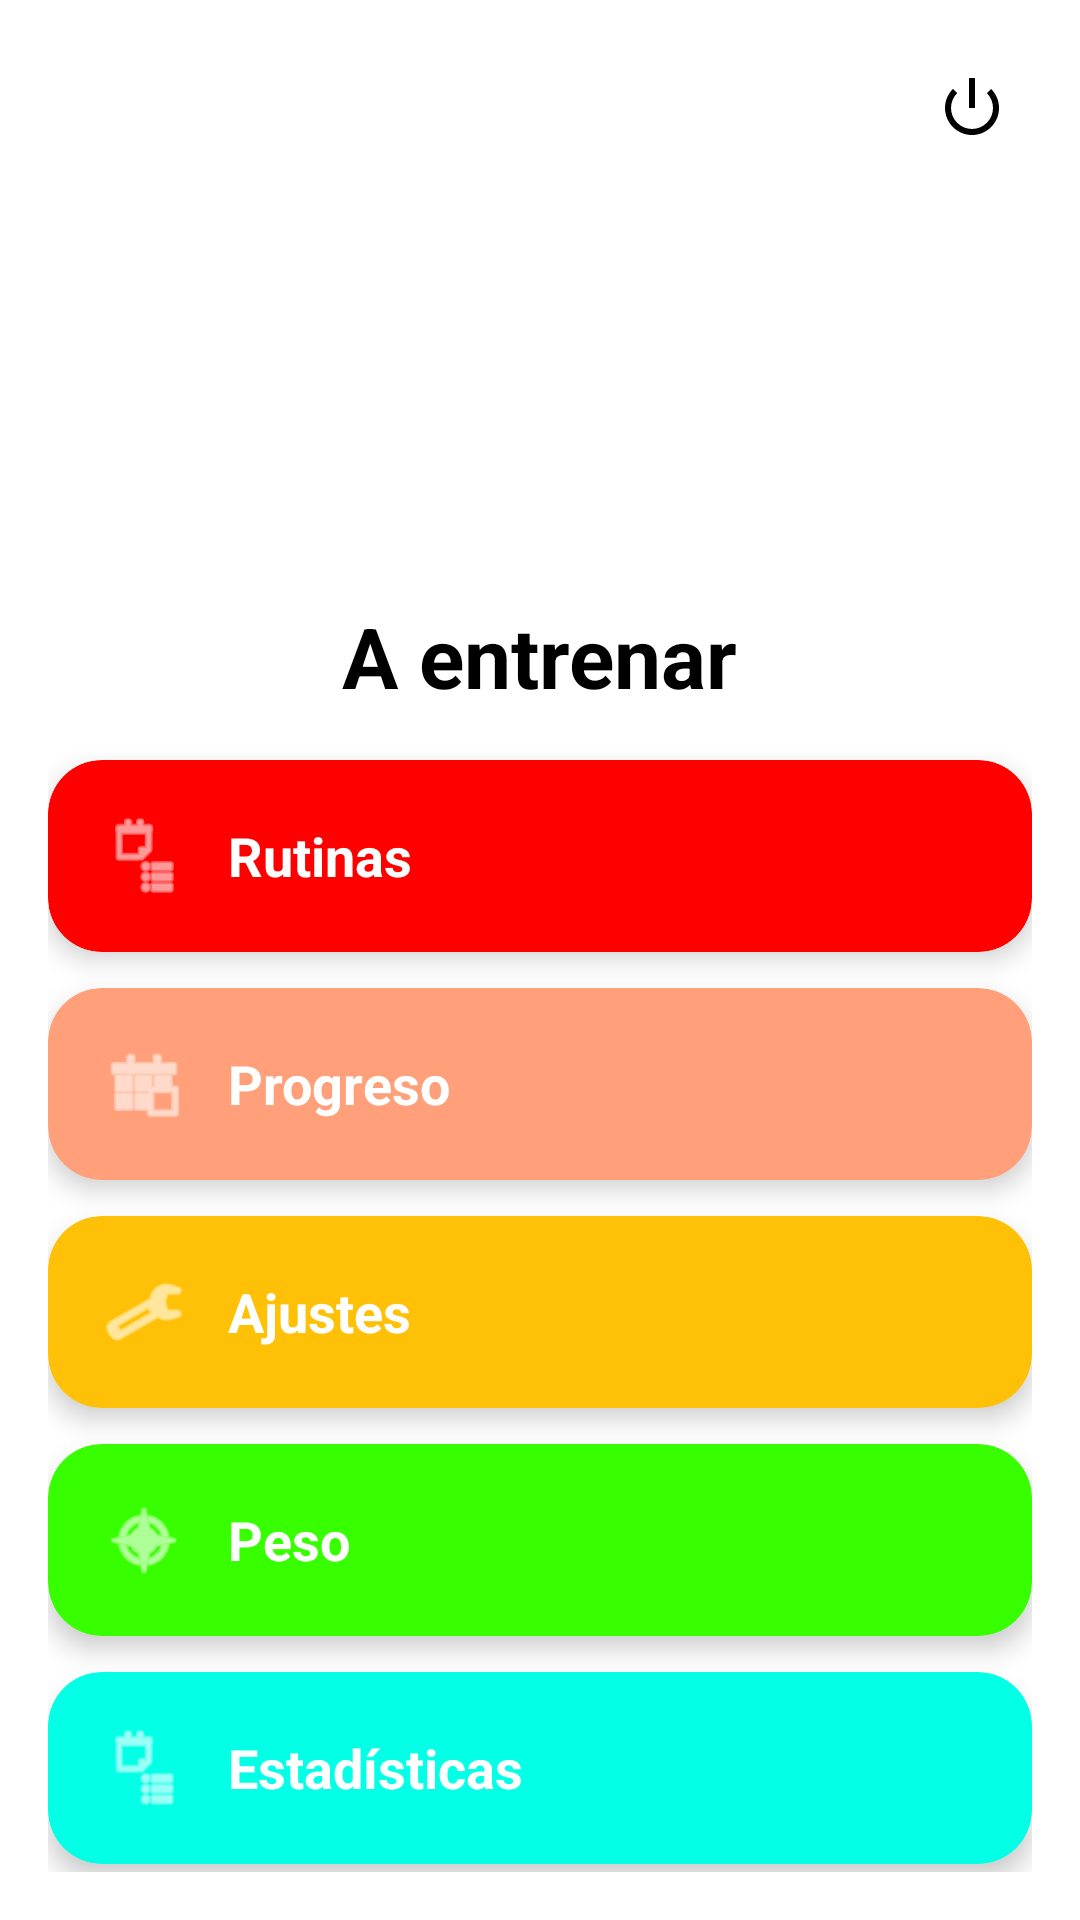

Locate icon controls on the screen. Image size 1080x1920, boxes as Rect(x1, y1, x2, y2).
agenda: Rect(115, 818, 174, 893), Rect(115, 1730, 174, 1805)
compass: Rect(110, 1507, 177, 1574)
lock power off: Rect(945, 78, 999, 135)
manage: Rect(106, 1283, 182, 1341)
today: Rect(111, 1054, 179, 1117)
